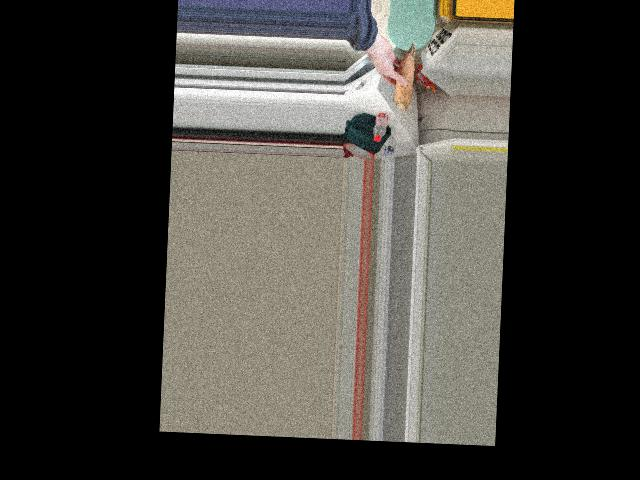sweet_potato: (391, 44, 415, 112)
